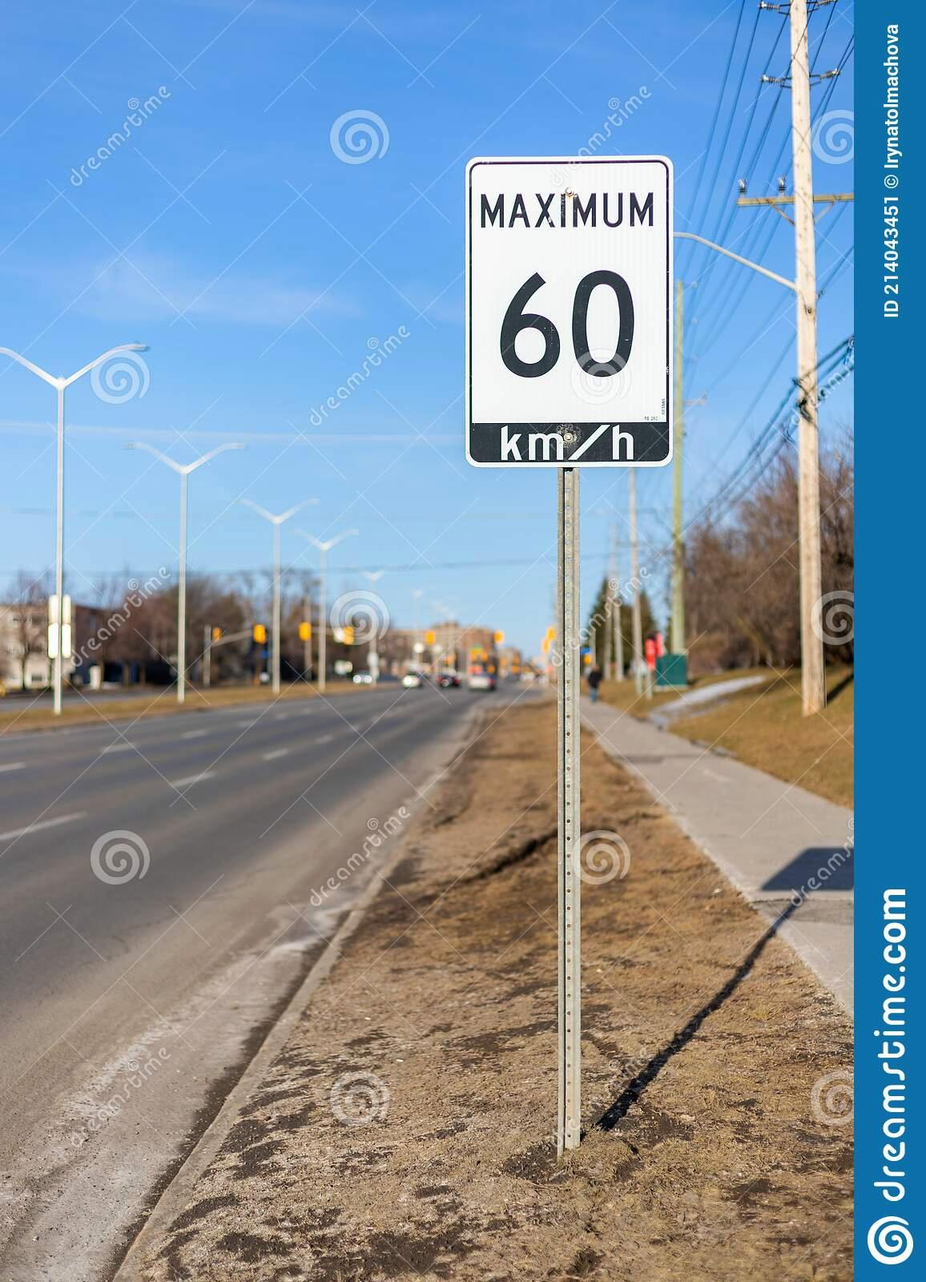speed limit sign: (458, 155, 678, 468)
